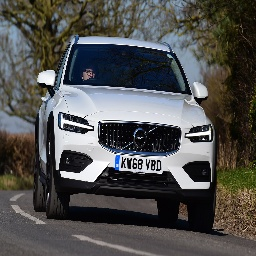sv_licence_plate: (114, 154, 164, 173)
